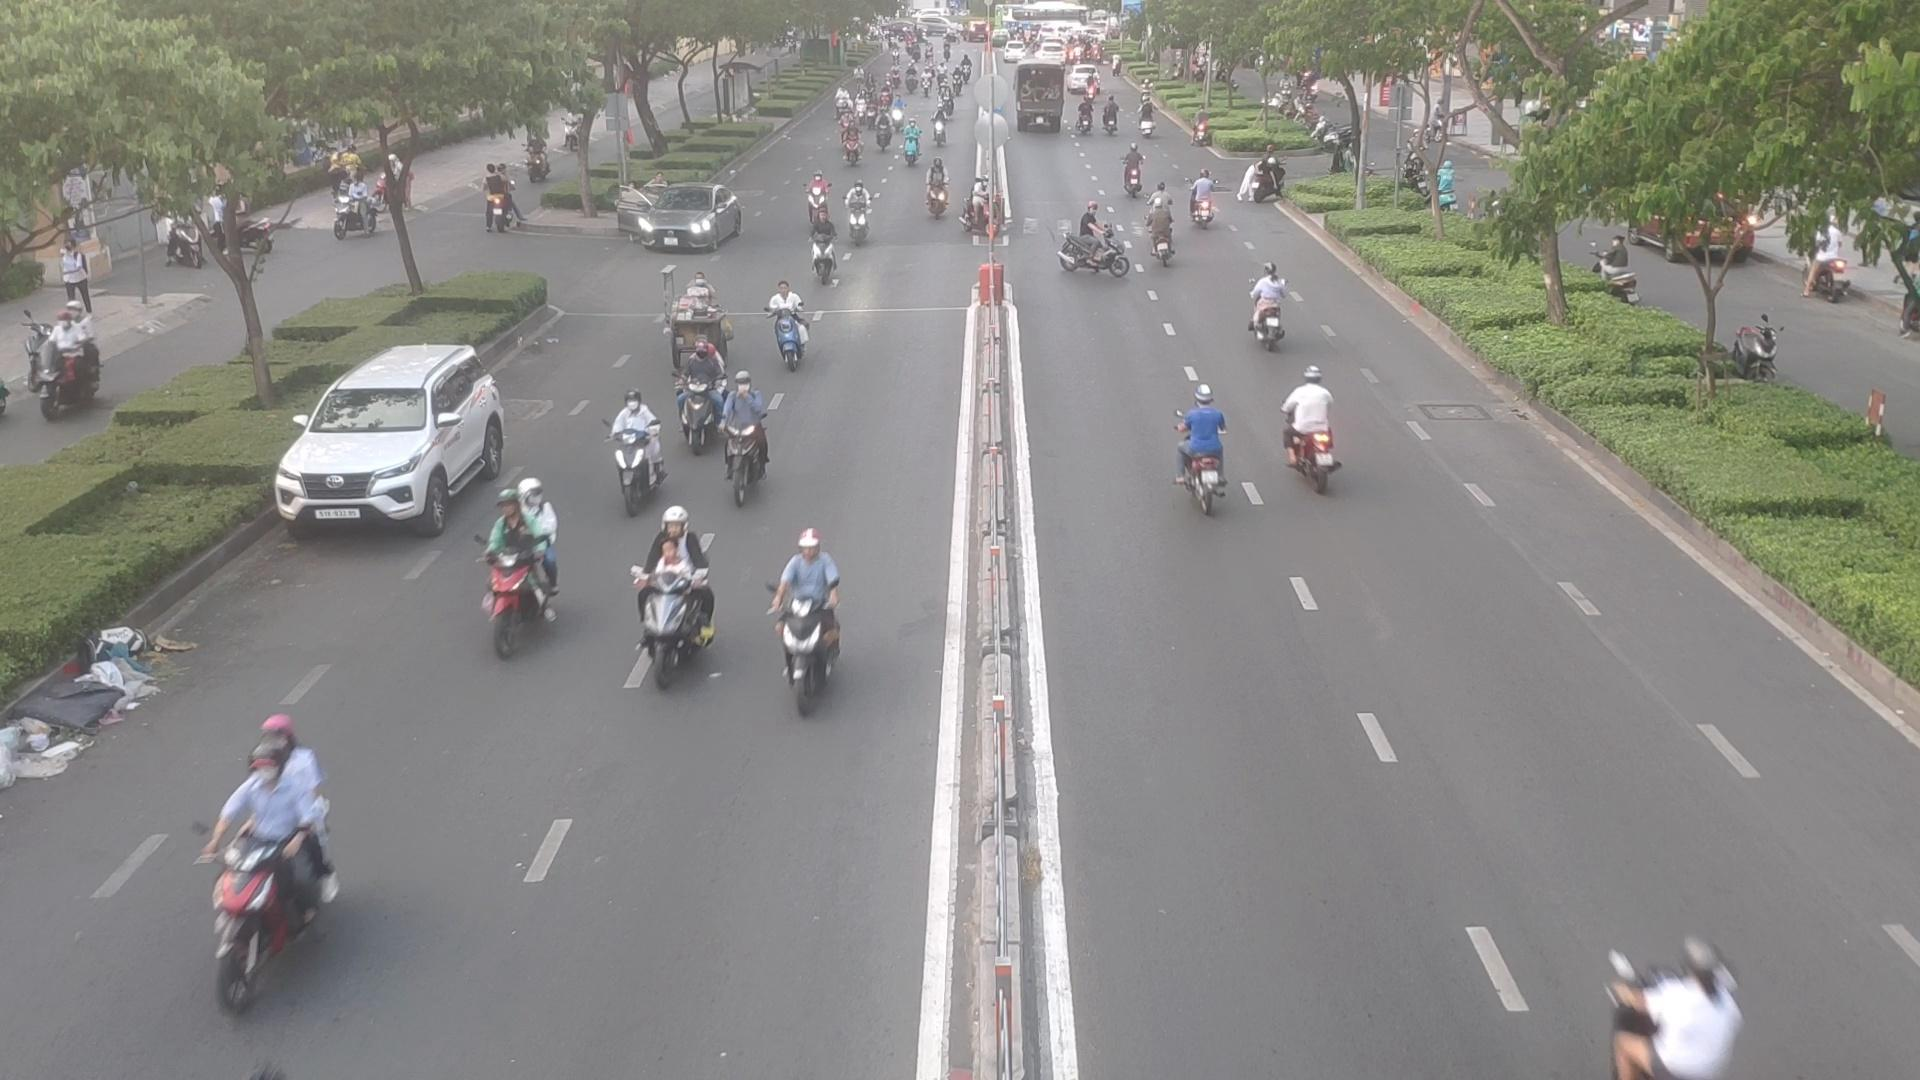car: (272, 343, 512, 534), (620, 189, 749, 258)
motorbike: (206, 822, 338, 1010), (1600, 916, 1750, 1080), (487, 473, 566, 640), (628, 574, 723, 694), (781, 531, 840, 716), (1176, 380, 1229, 514), (760, 274, 819, 380), (679, 327, 729, 447), (1059, 200, 1133, 281), (615, 382, 665, 497), (1291, 367, 1338, 483), (724, 376, 766, 496), (1246, 255, 1288, 349), (810, 206, 841, 287), (844, 164, 872, 243), (1150, 200, 1178, 264), (1191, 164, 1216, 233), (926, 157, 947, 229), (899, 120, 923, 174), (1137, 96, 1159, 141), (843, 117, 862, 161), (1126, 146, 1145, 193)
